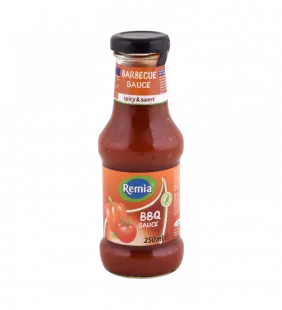REMIA: (92, 20, 196, 284)
